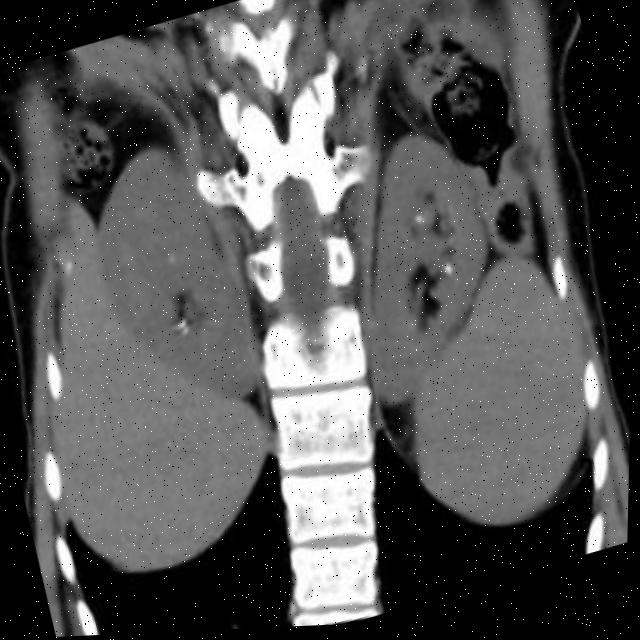Tas_Var: (438, 262, 457, 287), (162, 251, 181, 272), (411, 212, 428, 233), (178, 327, 194, 343), (174, 318, 189, 334)
